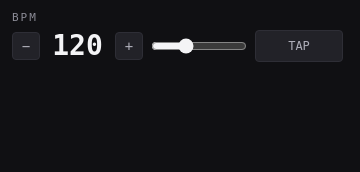
Scenario: TempoControl › Esc 放棄草稿，讀數回到原本的 BPM
Replace the text in the number field named "BPM" with "200": (78, 46) [48, 29, 107, 63]
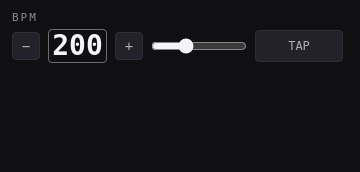
Press Escape in the number field named "BPM", box [48, 29, 107, 63]
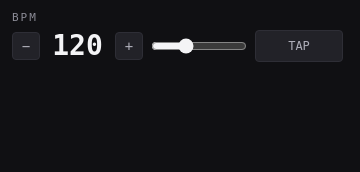
expect the number field named "BPM" holds "120": met, box [48, 29, 107, 63]
